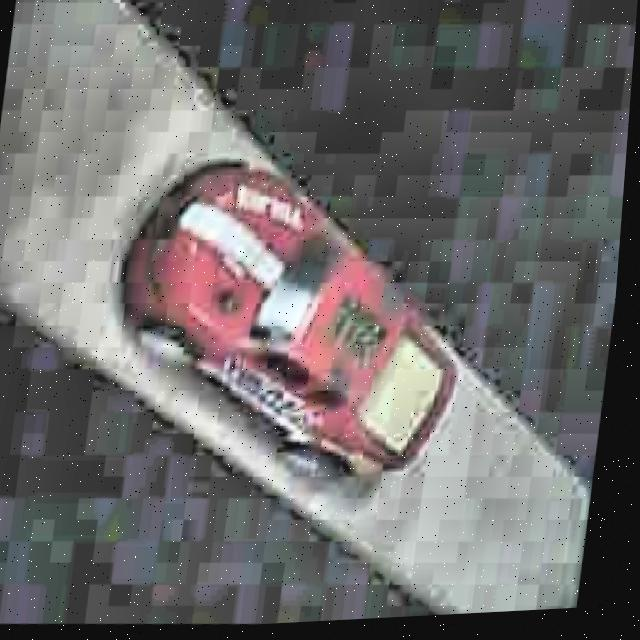car: (82, 134, 492, 501)
